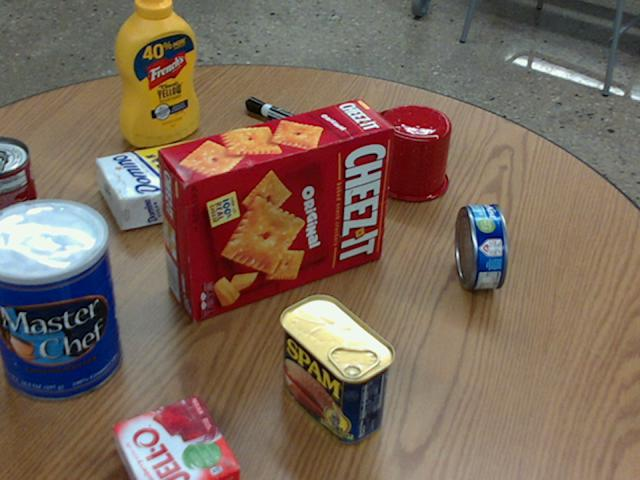cracker_box: (159, 99, 393, 319)
gelatin_box: (111, 395, 237, 479)
large_marker: (245, 96, 325, 139)
master_chef_can: (0, 199, 121, 400)
mug: (369, 105, 450, 202)
mustard_bottle: (116, 0, 198, 145)
potted_meat_can: (279, 294, 392, 443)
sugar_box: (95, 128, 271, 229)
tomato_soup_can: (0, 136, 42, 255)
tuna_fish_can: (453, 203, 507, 288)
